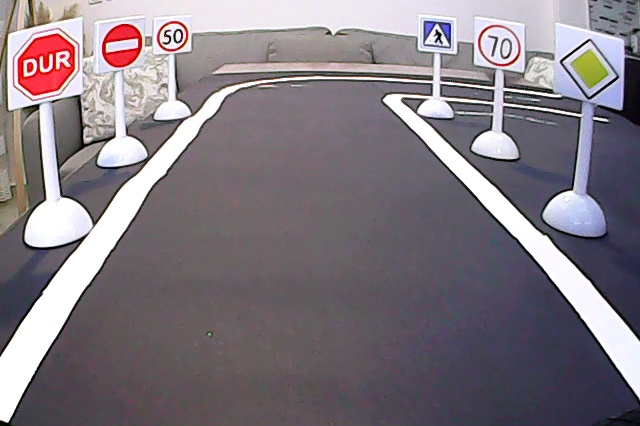do not enter: (100, 22, 144, 71)
pedestrian crossing: (419, 17, 454, 50)
speed limit 50: (155, 18, 189, 53)
speed limit 70: (476, 21, 523, 70)
stop sign: (11, 27, 81, 102)
